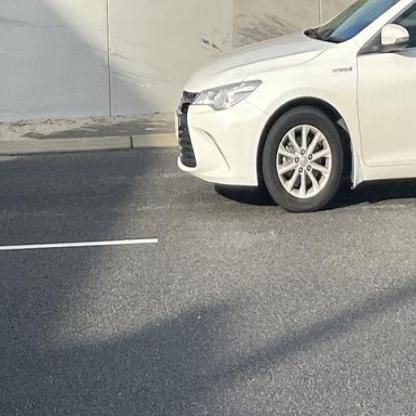Tire: (262, 108, 342, 214)
